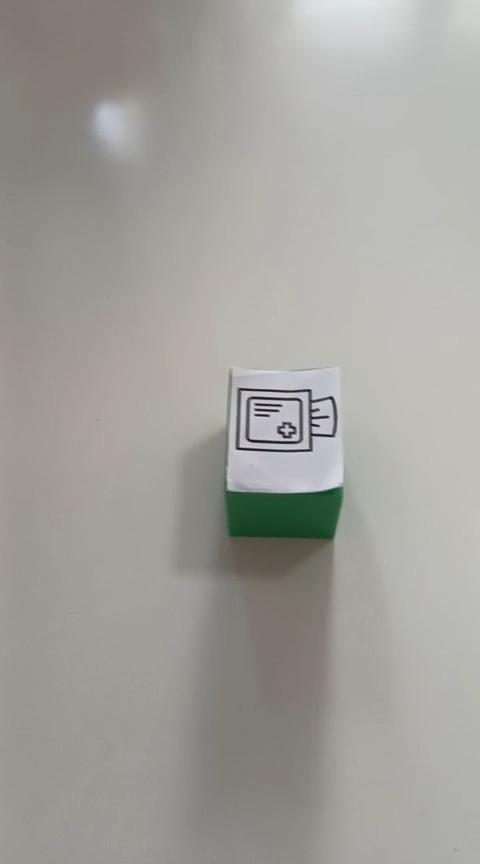Gauze: (222, 364, 345, 540)
